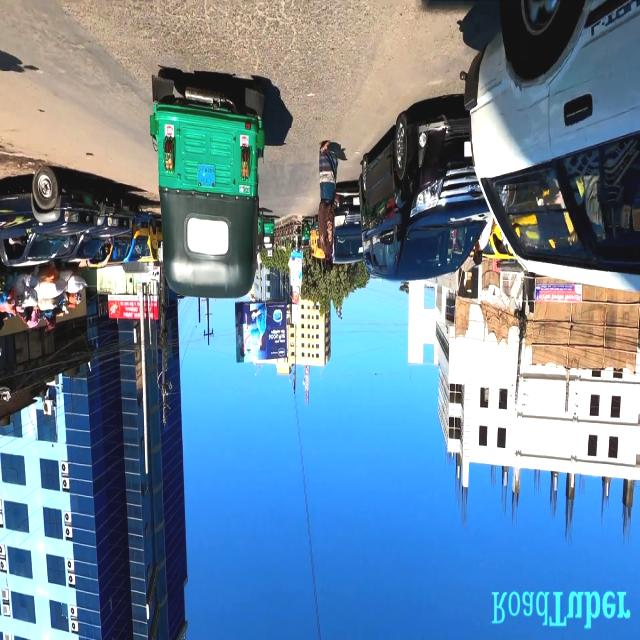black: (359, 105, 472, 286), (331, 186, 359, 267)
white: (478, 0, 640, 281)
